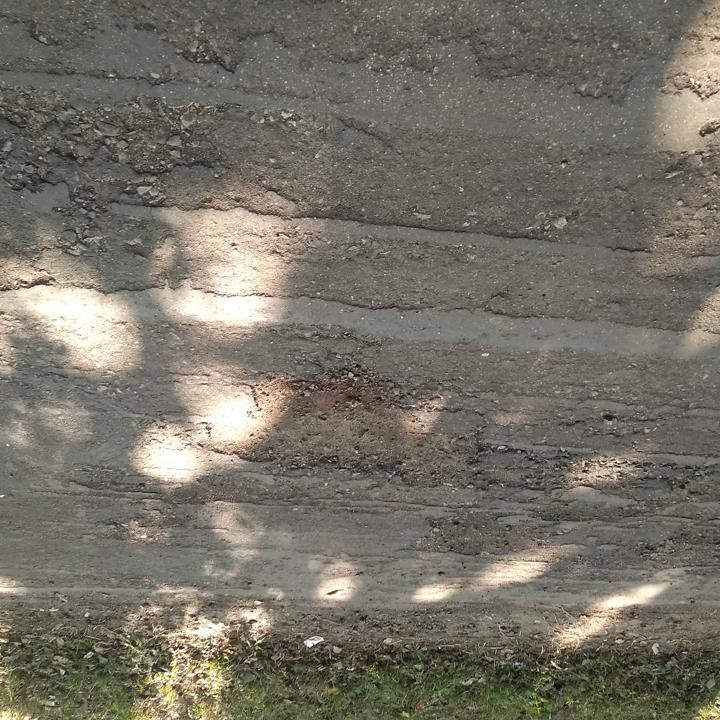pothole: (194, 368, 506, 487)
